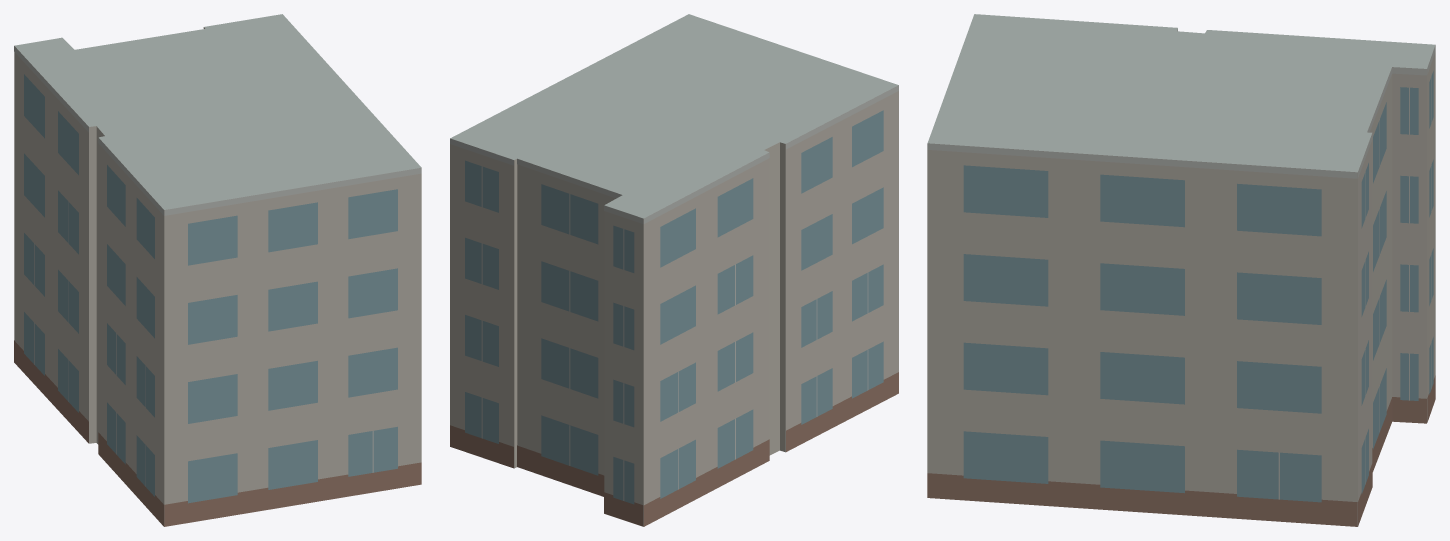
The model's file is survey-upis-32675972.glb.
3 renders of one model, left to right at view 1: azimuth 30°, elevation 25°; view 2: azimuth 150°, elevation 25°; view 3: azimuth 270°, elevation 25°, orthographic. The views are drawn at different scales.
Visible parts, largest first — view 1: survey-upis-32675972.tmp; view 2: survey-upis-32675972.tmp; view 3: survey-upis-32675972.tmp.
Part boxes in pixels (bbox=[...]): survey-upis-32675972.tmp: bbox=[14, 14, 421, 526]; survey-upis-32675972.tmp: bbox=[450, 14, 898, 526]; survey-upis-32675972.tmp: bbox=[927, 14, 1435, 526].
Size of the model in its own units: 12.65 by 13.2 by 17.15.
